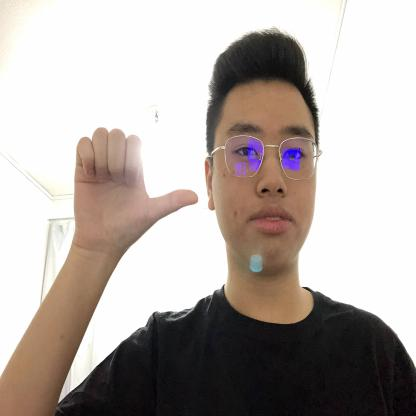right: (70, 126, 200, 242)
